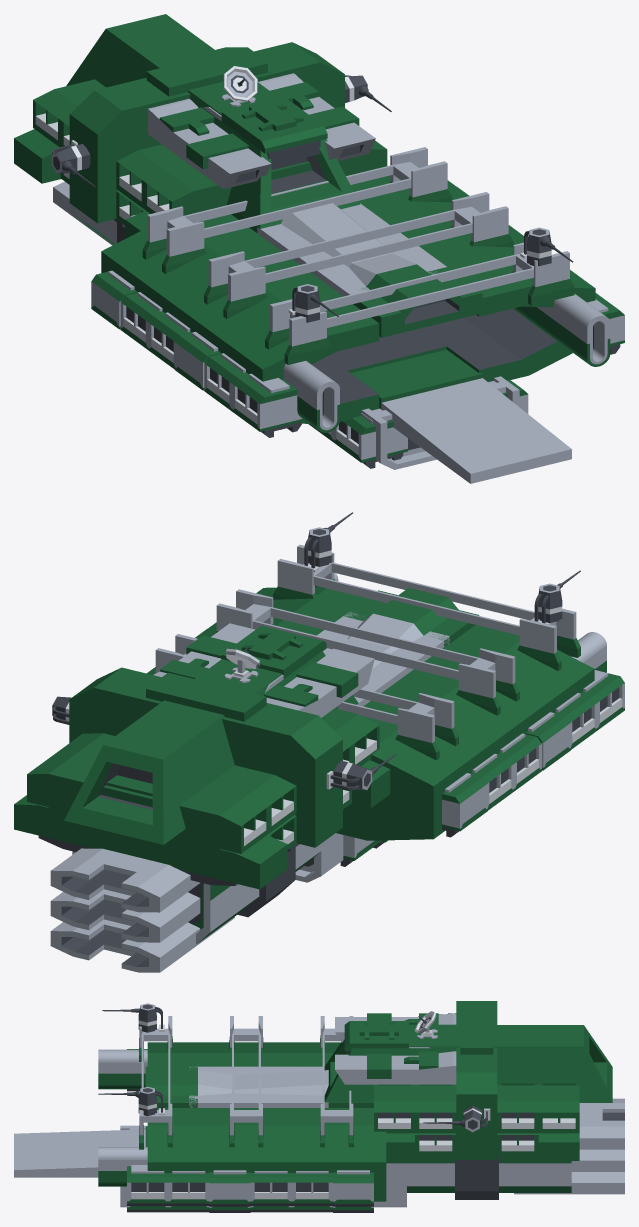
File: croiseur_moyen_4.glb
The picture shows the model from 3 angles, top to bottom: view 1: azimuth 30°, elevation 25°; view 2: azimuth 150°, elevation 25°; view 3: azimuth 270°, elevation 25°; orthographic projection. The views are drawn at different scales.
Parts seen in each view (by area): view 1: mergedBlocks(Clone); view 2: mergedBlocks(Clone); view 3: mergedBlocks(Clone).
Boxes of the visible parts, box(x1,y1,x2,y2) form: mergedBlocks(Clone): box(14, 14, 624, 483); mergedBlocks(Clone): box(14, 512, 624, 972); mergedBlocks(Clone): box(14, 1001, 624, 1212).
Bounding box in the file's own units: 7.67 × 4.76 × 14.85.
1 material, 1 textured.
